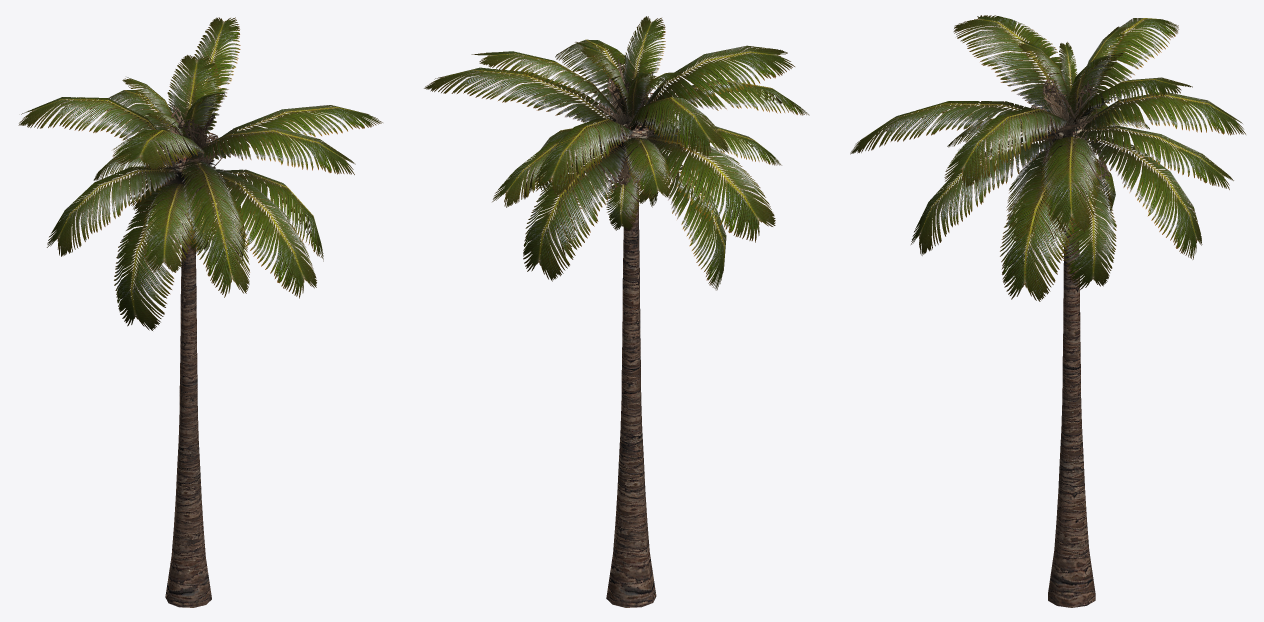
File: palm_tree.dae
3 views of the same model, side by side, from view 1: azimuth 30°, elevation 25°; view 2: azimuth 150°, elevation 25°; view 3: azimuth 270°, elevation 25° (orthographic). The views are drawn at different scales.
Visible parts, largest first — view 1: palm_tree; view 2: palm_tree; view 3: palm_tree.
Part boxes in pixels (bbox=[...]): palm_tree: bbox=[18, 17, 382, 607]; palm_tree: bbox=[424, 16, 809, 607]; palm_tree: bbox=[850, 15, 1245, 607].
Size of what is drawn, in the model's own units: 5.96 by 5.94 by 9.07.
2 materials, 2 textured.
